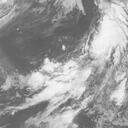cyclone: (33, 57, 92, 106)
